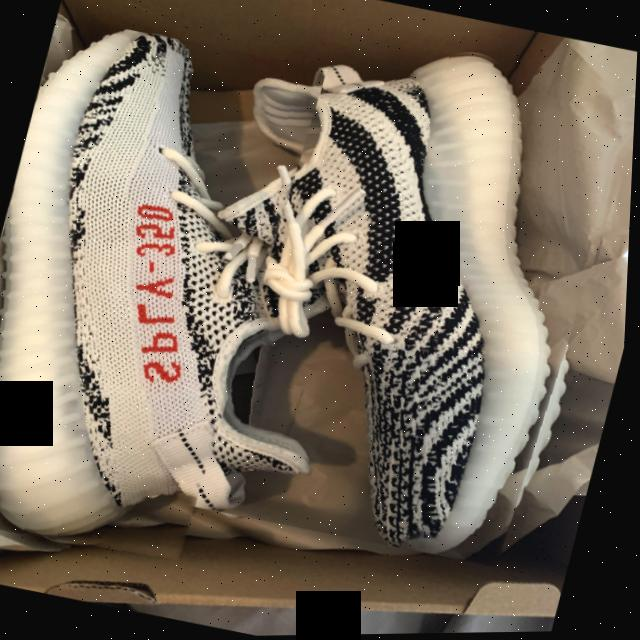shoe: (176, 10, 639, 578), (0, 12, 330, 575)
